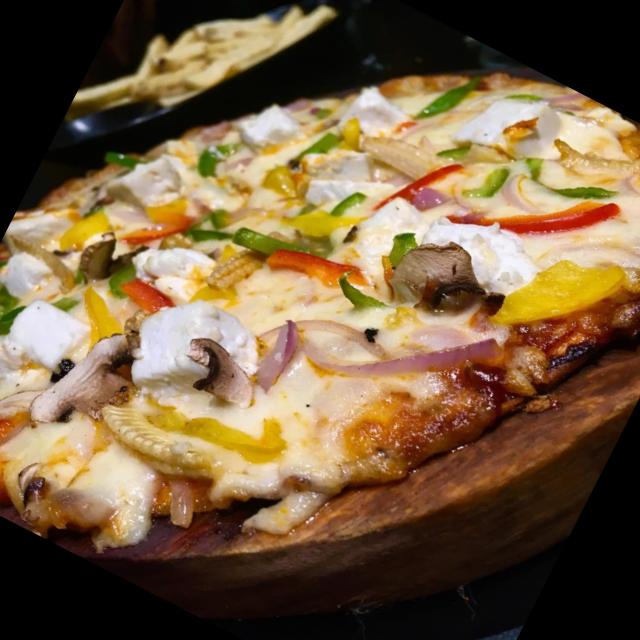mushrooms: (23, 311, 156, 457), (386, 224, 502, 328), (170, 329, 268, 416), (70, 228, 128, 290)
peppers: (228, 214, 390, 320), (150, 392, 280, 478), (262, 112, 360, 221), (517, 148, 627, 223), (495, 259, 627, 321), (54, 200, 126, 279), (59, 282, 132, 359), (440, 204, 616, 234), (454, 149, 516, 218), (138, 180, 200, 240), (426, 67, 482, 133), (118, 270, 181, 324), (184, 204, 237, 254), (194, 130, 240, 184), (0, 279, 30, 351)
pizza: (0, 73, 640, 550)
